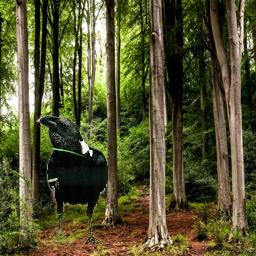Crow: (36, 115, 108, 246)
